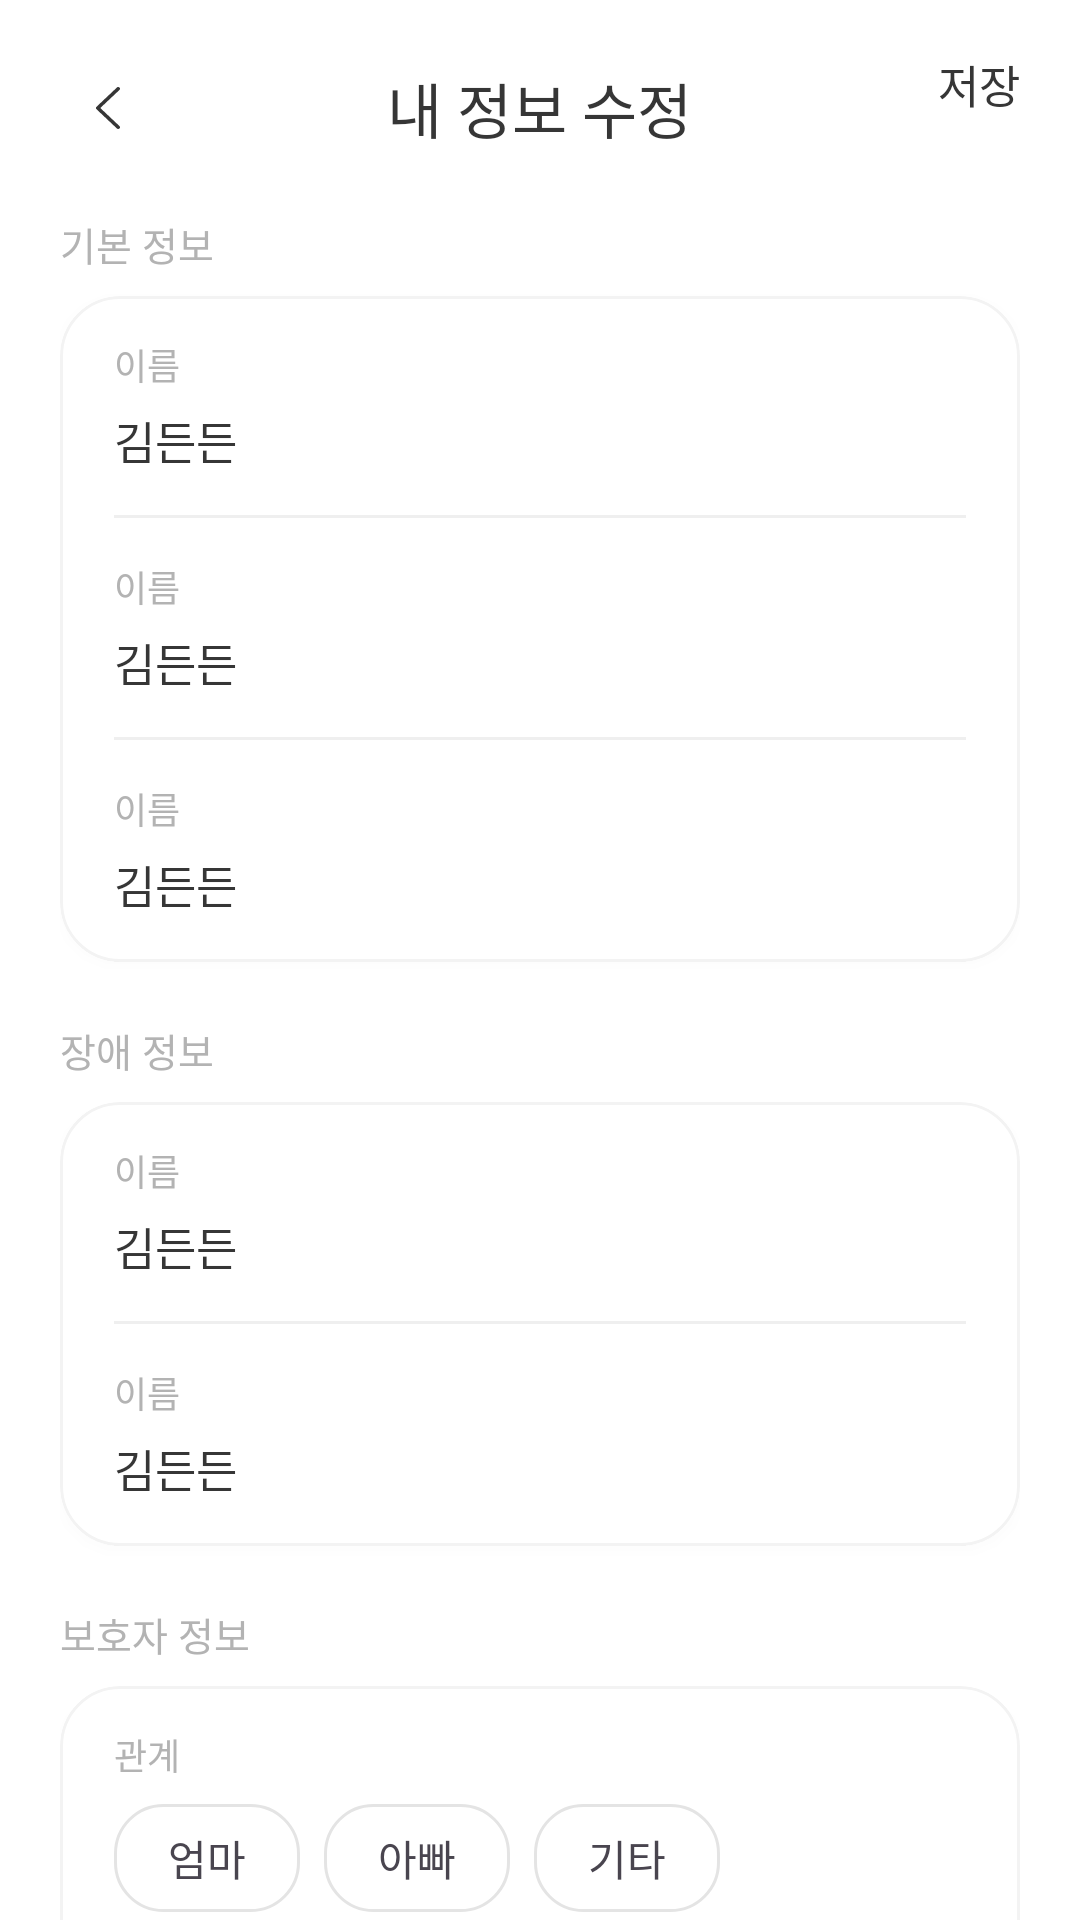

Point at icon controls on the screen. Image size 1080x1920, points as point (x, y).
뒤로 가기: point (108, 108)
